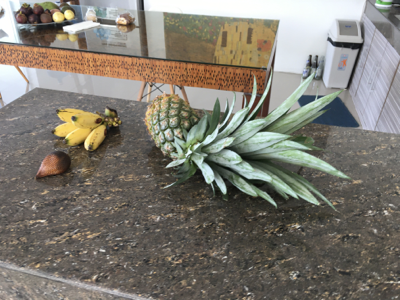banana: (54, 105, 121, 154)
pineapple: (146, 87, 352, 211)
snake fruit: (36, 152, 71, 179)
